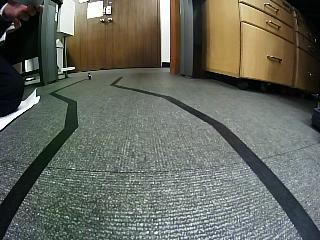person: (88, 73, 92, 80)
